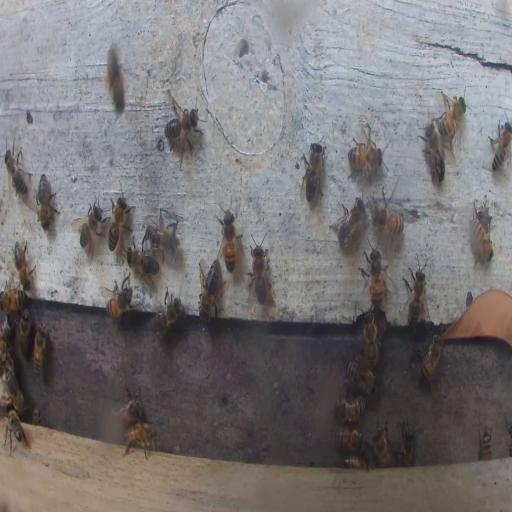bee: (163, 99, 202, 157), (74, 196, 108, 259), (145, 210, 181, 262), (405, 256, 428, 333), (420, 120, 446, 186), (334, 196, 366, 249), (300, 139, 326, 202), (248, 232, 270, 306), (3, 145, 32, 200), (438, 90, 467, 144), (104, 44, 125, 117), (107, 192, 132, 253), (197, 259, 222, 320), (470, 199, 492, 264), (152, 288, 183, 333), (36, 173, 60, 230), (371, 193, 404, 234), (417, 334, 444, 384), (347, 139, 386, 173), (111, 384, 144, 424), (122, 422, 158, 458), (489, 116, 512, 171), (364, 245, 383, 309), (3, 410, 28, 456), (346, 354, 376, 392), (13, 240, 35, 289), (222, 208, 238, 274), (104, 282, 133, 318), (331, 428, 369, 455), (2, 366, 24, 412), (128, 246, 158, 278), (372, 423, 392, 468), (398, 418, 416, 468), (334, 396, 366, 423), (364, 309, 379, 364), (18, 307, 32, 360), (1, 286, 28, 312), (34, 323, 46, 377), (480, 428, 492, 460), (0, 342, 13, 368), (342, 454, 368, 467), (0, 316, 12, 342), (31, 406, 41, 424)
